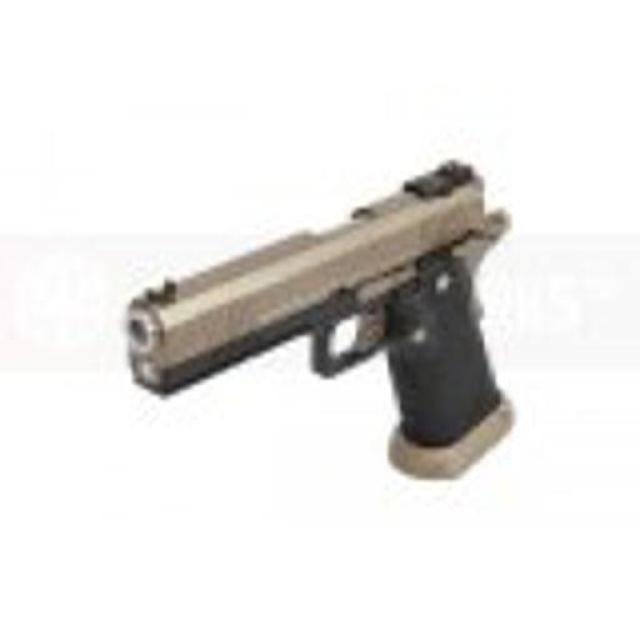pistol: (111, 154, 520, 485)
